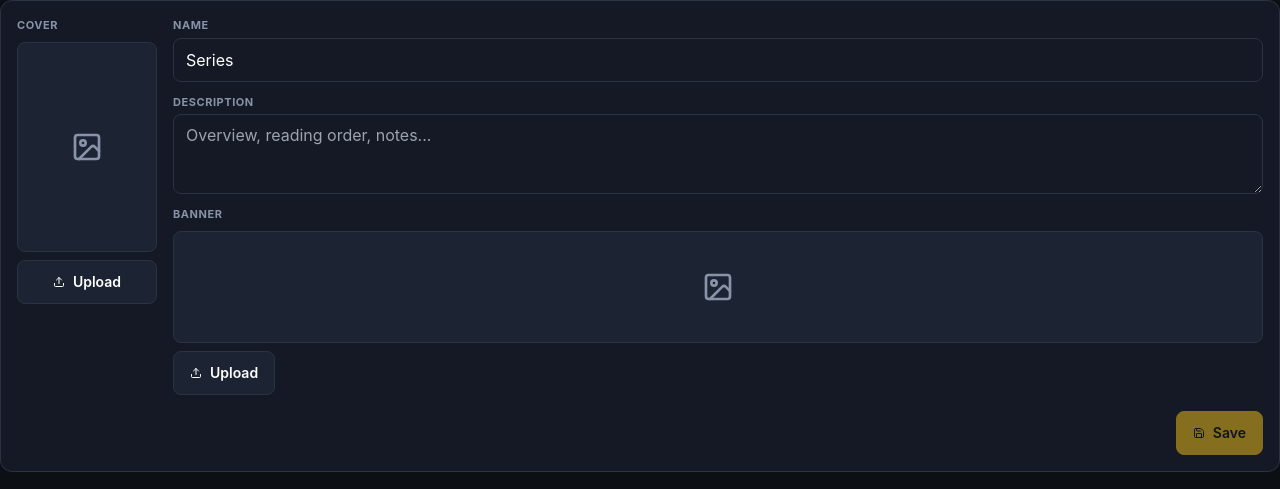
Scenario: SeriesMetaEditor › resets a draft with an absent initial description
Replace the text in the field showing "Series" with "Changed" at (718, 60), box x1=173 y1=38 x2=1263 y2=82
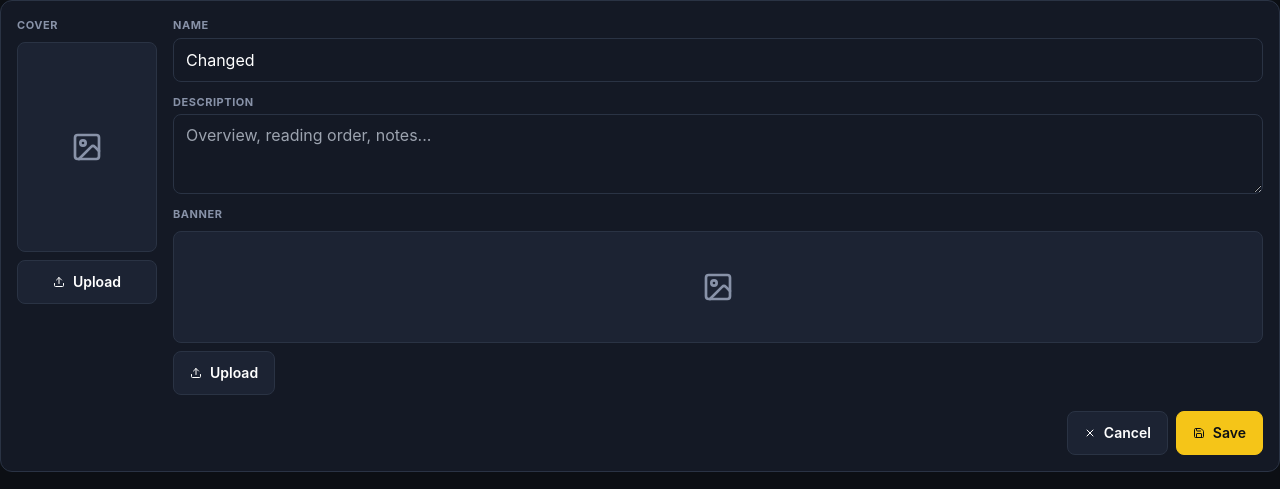
Type "Draft" into the text box with placeholder "Overview, reading order, notes...".
click(718, 154); type("Draft")  # box x1=173 y1=114 x2=1263 y2=194
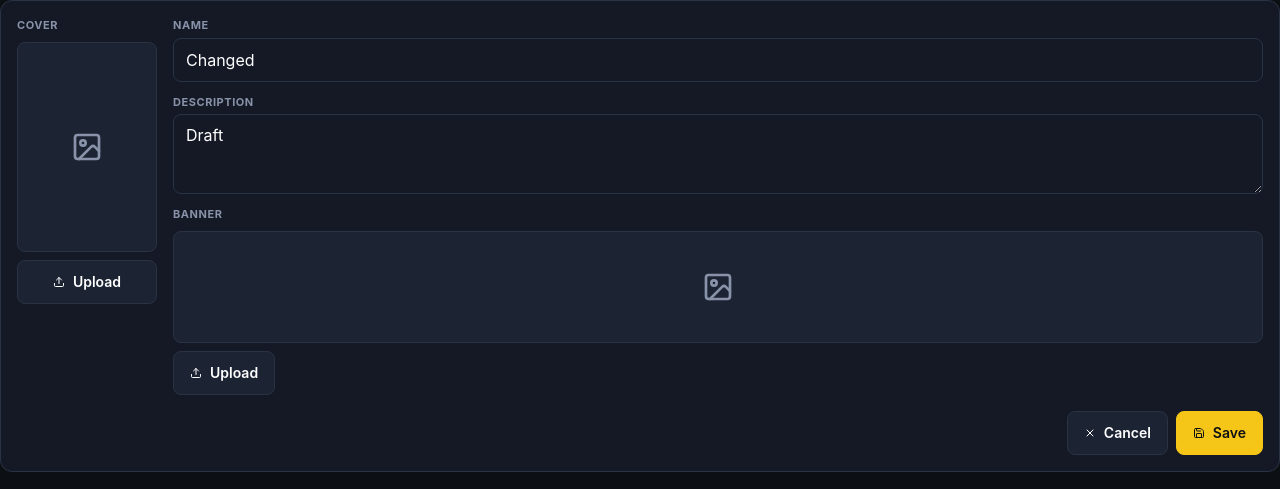
Click the button "Cancel".
click(1117, 432)  # box x1=1067 y1=410 x2=1168 y2=454
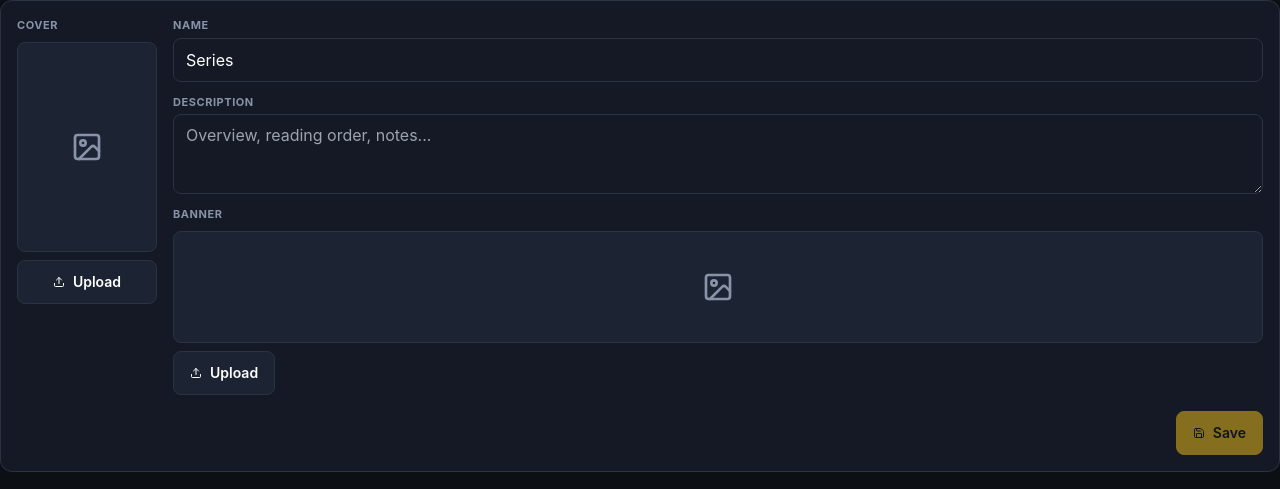
Expected: the field showing "Series" is shown, x1=173 y1=38 x2=1263 y2=82
Expected: the text box with placeholder "Overview, reading order, notes..." is empty, x1=173 y1=114 x2=1263 y2=194
